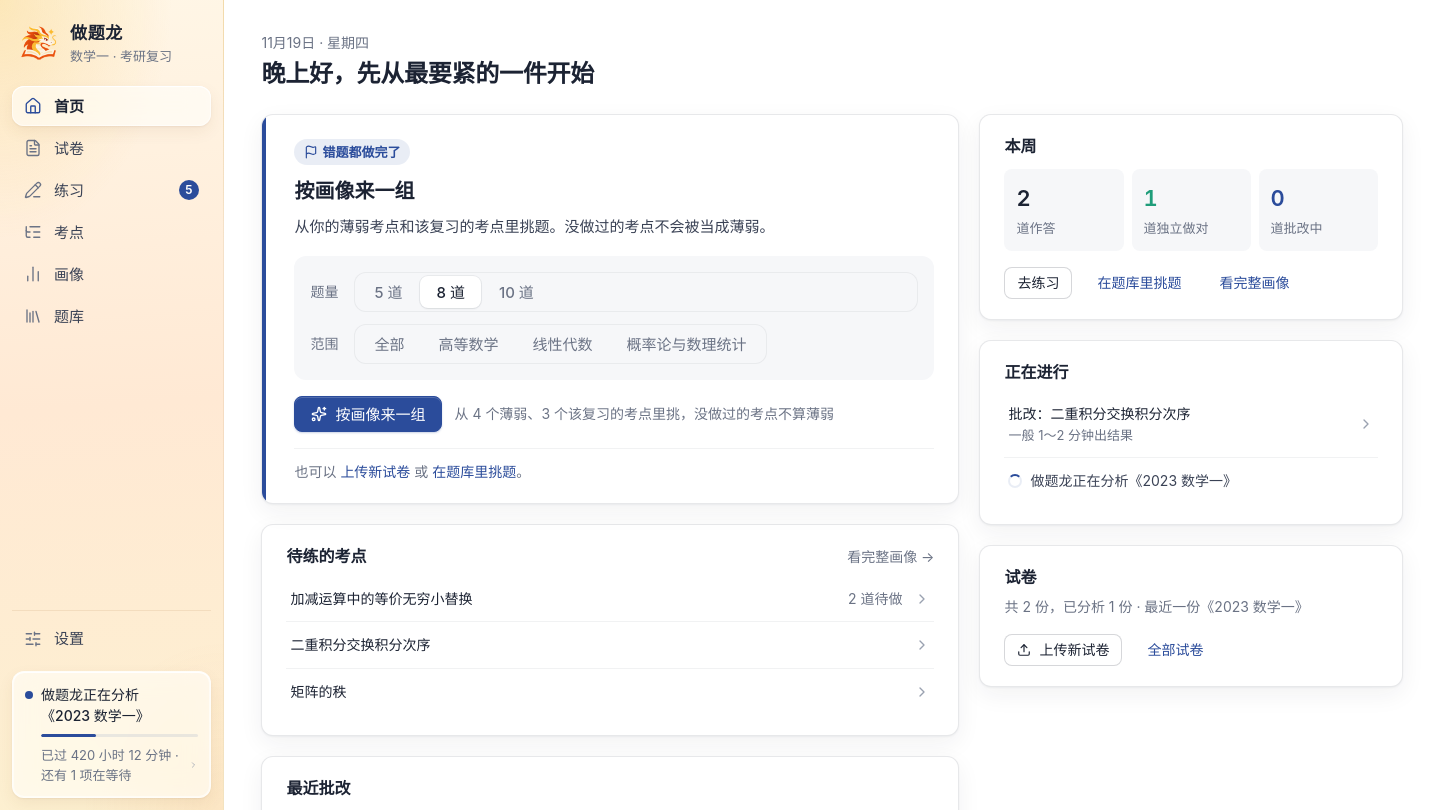
confirms before queuing a profile batch, shows progress and jumps to the practices
Later steps or results of the test are not shown.
Check: the heading "按画像来一组" is shown, box [294,179,414,203]
Click the radio button labelled "5 道".
click(388, 292)  # box [358,276,418,308]
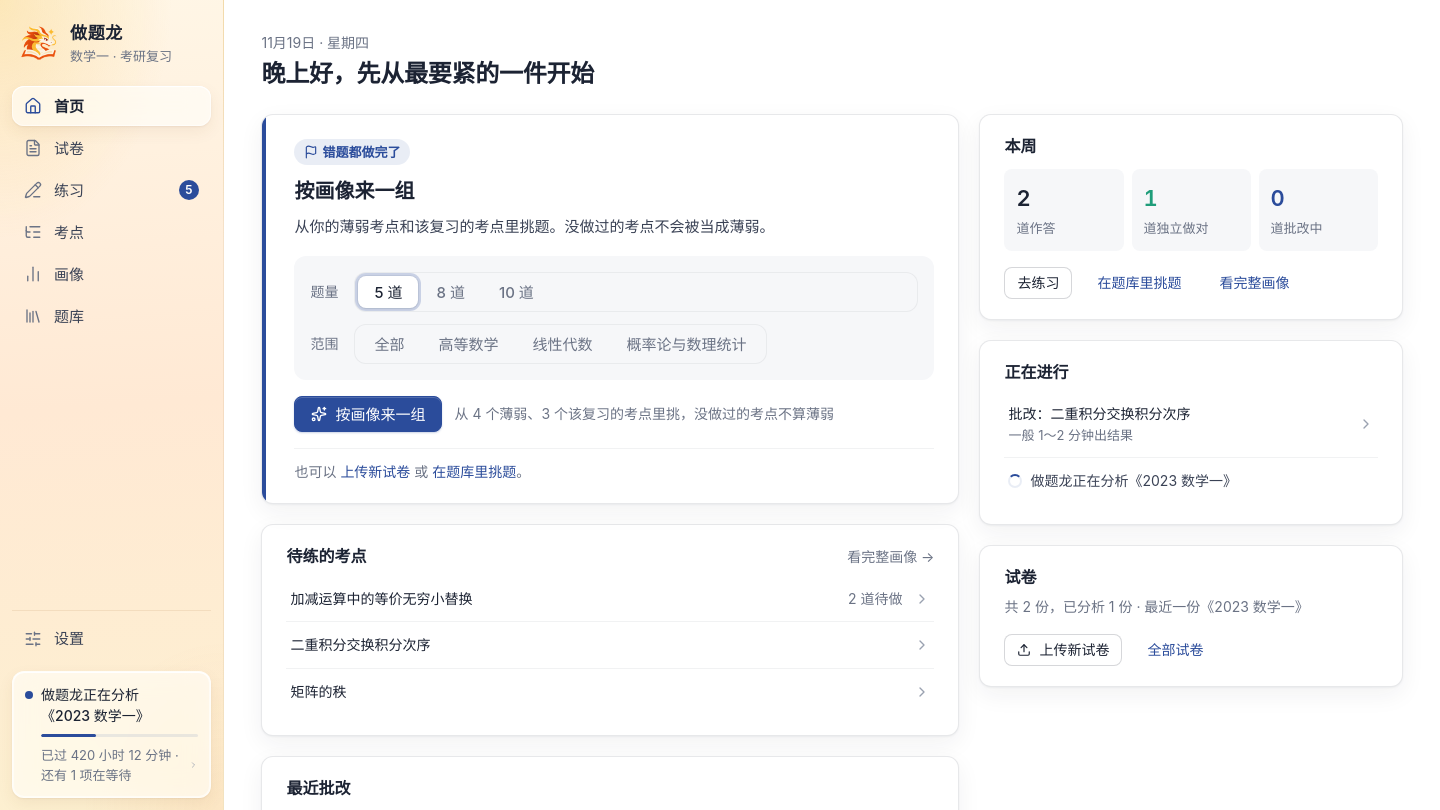
Click the button "按画像来一组".
click(368, 414)  # box [294,396,442,432]
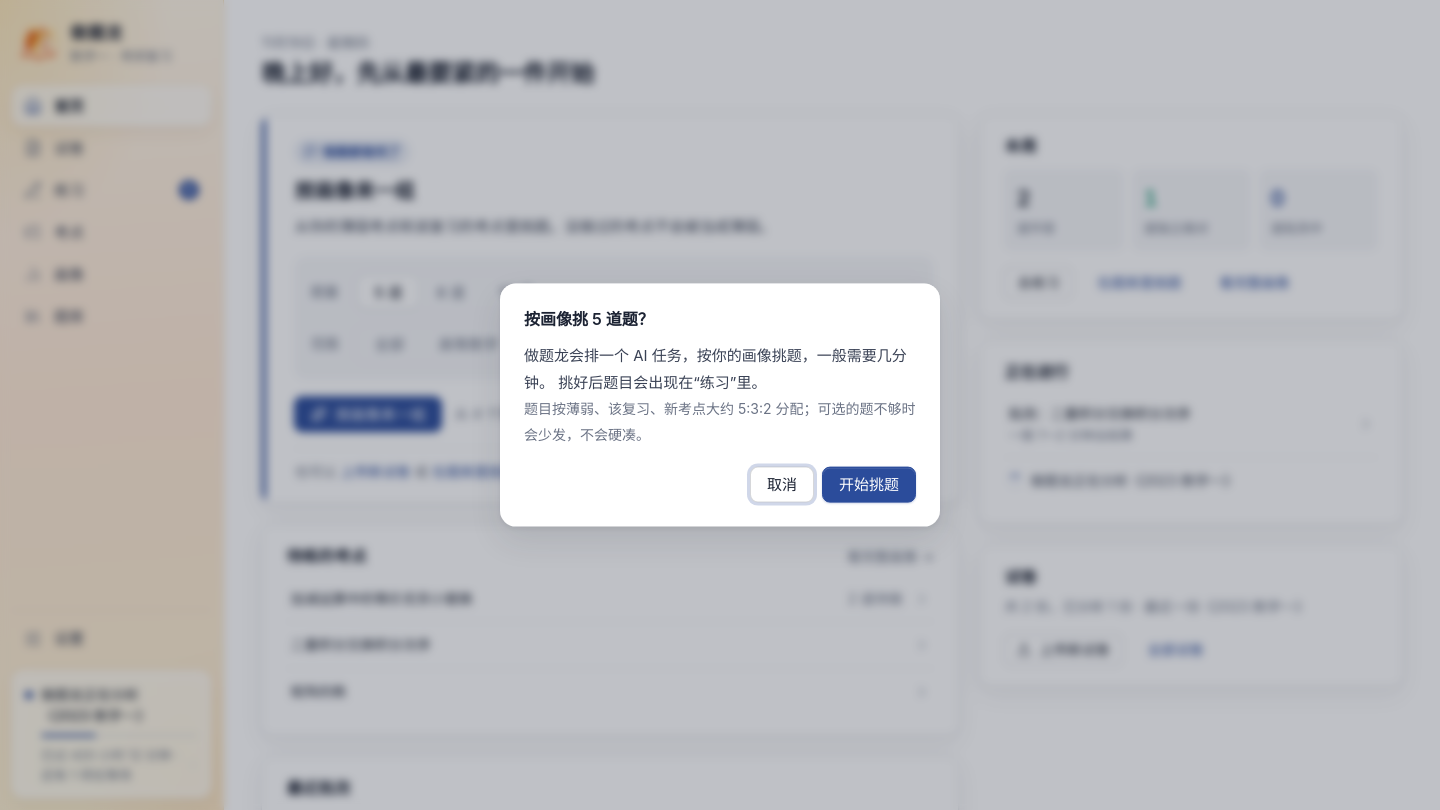
Check: the dialog shows "排一个 AI 任务", box [524,346,772,365]
